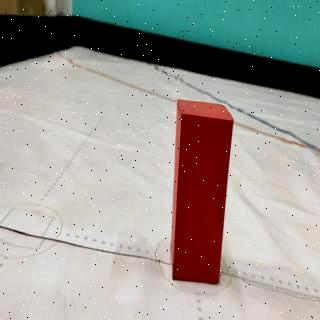redbox: (172, 100, 226, 288)
